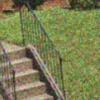stairs: (0, 43, 67, 100)
